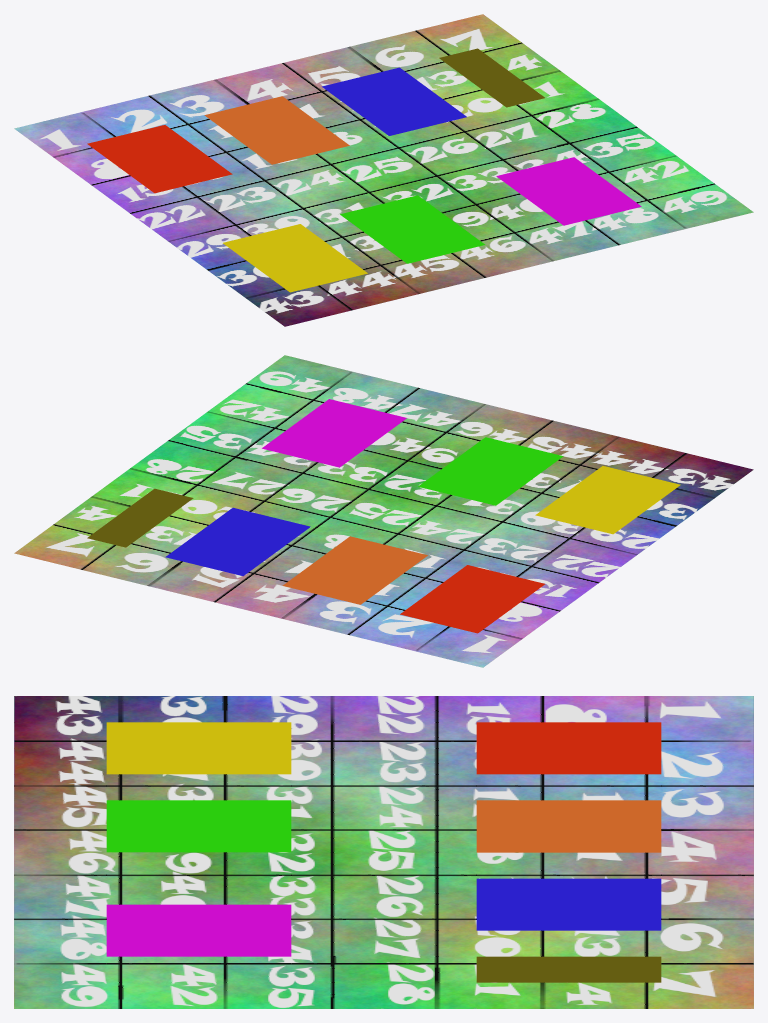
The model's file is beta suelo.fbx.
3 renders of one model, top to bottom at view 1: azimuth 30°, elevation 25°; view 2: azimuth 150°, elevation 25°; view 3: azimuth 270°, elevation 25°, orthographic. The views are drawn at different scales.
Parts seen in each view (by area): view 1: Plane, Plane.002, Plane.001, Plane.003, Plane.004, Plane.005, Plane.006, Plane.007; view 2: Plane, Plane.001, Plane.002, Plane.003, Plane.004, Plane.005, Plane.006, Plane.007; view 3: Plane, Plane.006, Plane.001, Plane.002, Plane.003, Plane.004, Plane.005, Plane.007.
Boxes of the visible parts, bbox=[...] form: Plane: bbox=[14, 14, 753, 326]; Plane.002: bbox=[322, 67, 466, 135]; Plane.001: bbox=[87, 125, 232, 193]; Plane.003: bbox=[340, 195, 485, 263]; Plane.004: bbox=[496, 157, 641, 225]; Plane.005: bbox=[223, 224, 367, 292]; Plane.006: bbox=[204, 96, 349, 164]; Plane.007: bbox=[439, 48, 544, 107]; Plane: bbox=[14, 355, 753, 667]; Plane.001: bbox=[400, 565, 544, 633]; Plane.002: bbox=[165, 507, 310, 576]; Plane.003: bbox=[418, 437, 563, 505]; Plane.004: bbox=[262, 399, 406, 467]; Plane.005: bbox=[535, 466, 680, 534]; Plane.006: bbox=[282, 536, 427, 604]; Plane.007: bbox=[87, 488, 193, 547]; Plane: bbox=[14, 696, 753, 1008]; Plane.006: bbox=[476, 800, 661, 852]; Plane.001: bbox=[476, 722, 661, 774]; Plane.002: bbox=[476, 878, 661, 930]; Plane.003: bbox=[106, 800, 291, 852]; Plane.004: bbox=[106, 904, 291, 956]; Plane.005: bbox=[106, 722, 291, 774]; Plane.007: bbox=[476, 956, 661, 982].
Bounding box in the file's own units: 2000 × 0.000326 × 2000.
